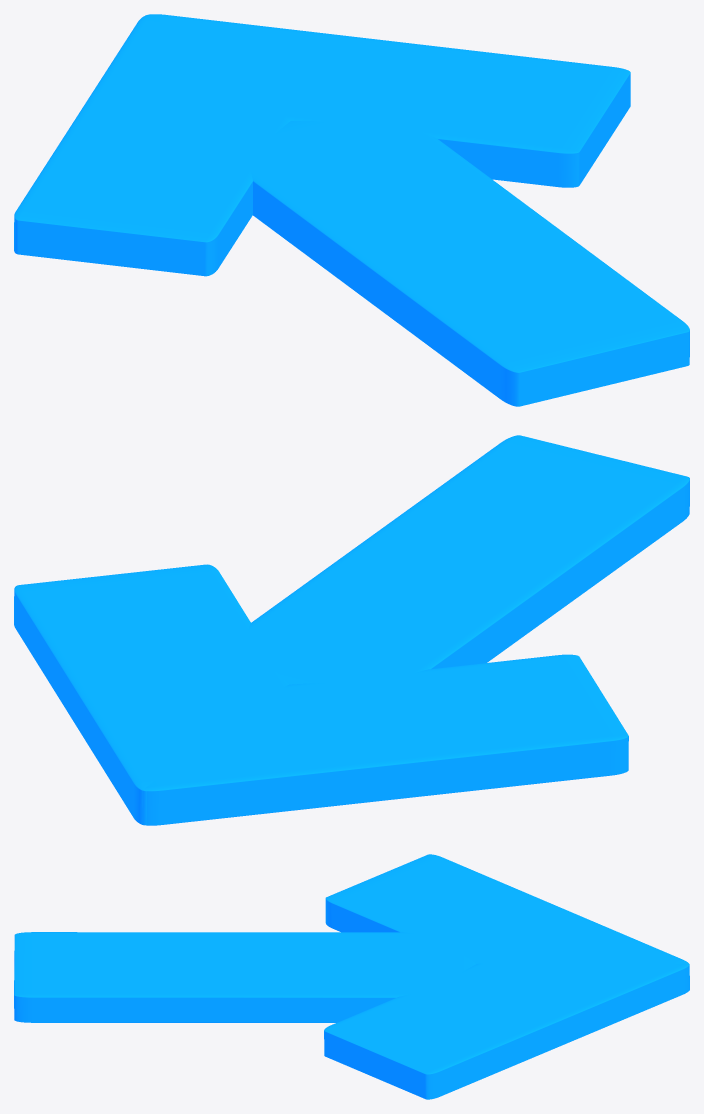
File: wwu_navigation_arrow.glb
The picture shows the model from 3 angles, top to bottom: view 1: azimuth 30°, elevation 25°; view 2: azimuth 150°, elevation 25°; view 3: azimuth 270°, elevation 25°; orthographic projection. The views are drawn at different scales.
Visible parts, largest first — view 1: Merged Objects; view 2: Merged Objects; view 3: Merged Objects.
Boxes of the visible parts, bbox=[...] form: Merged Objects: bbox=[14, 14, 689, 406]; Merged Objects: bbox=[14, 435, 689, 825]; Merged Objects: bbox=[14, 854, 689, 1099].
Size of the model in its own units: 0.3366 by 0.02 by 0.437.
